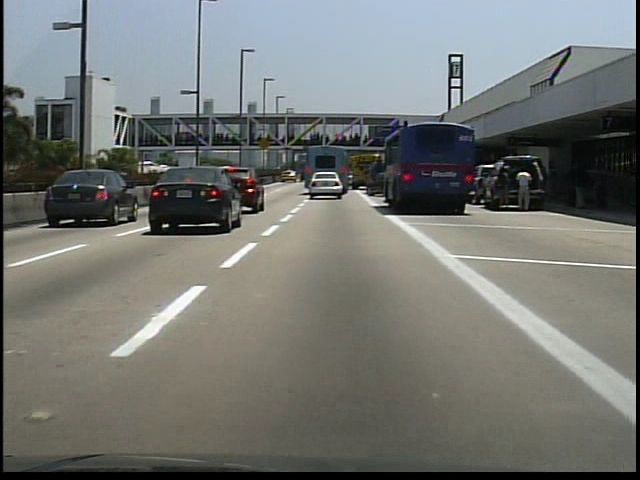person: (493, 164, 516, 218), (514, 162, 535, 215), (572, 164, 589, 210)
